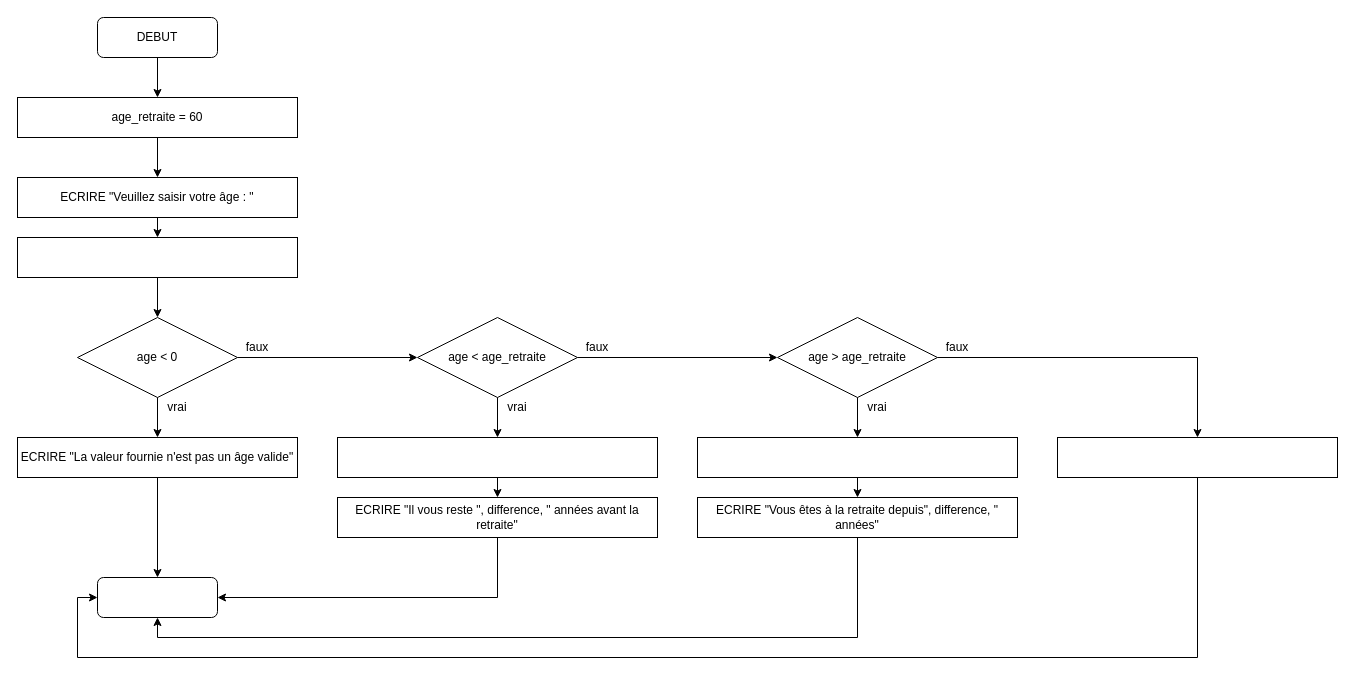
Image size: 1355x683. Some labels were removed from this diagram. Each missing label, with the centre of its shape:
difference = age - age_retraite: point (857, 457)
difference = age_retraite - age: point (497, 457)
ECRIRE "C'est le moment de prendre sa retraite": point (1197, 457)
FIN: point (157, 597)
LIRE age: point (157, 257)
